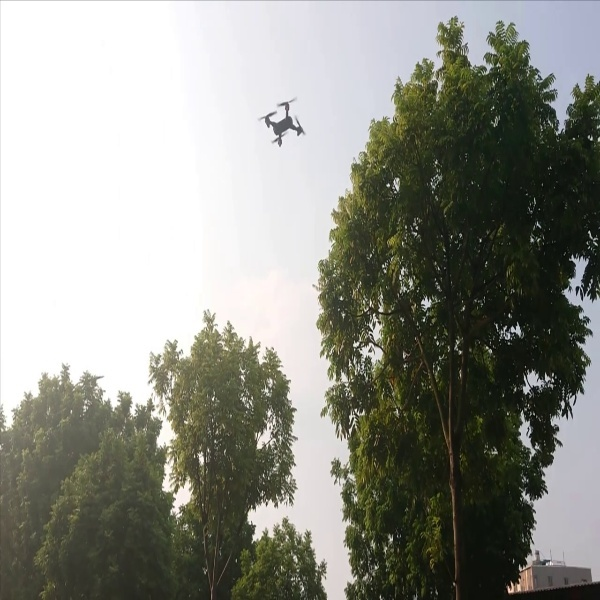drone: (256, 95, 310, 154)
